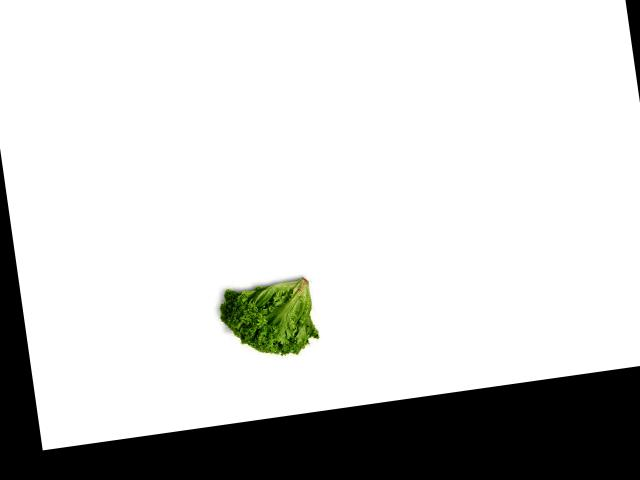lettuce: (210, 267, 325, 369)
